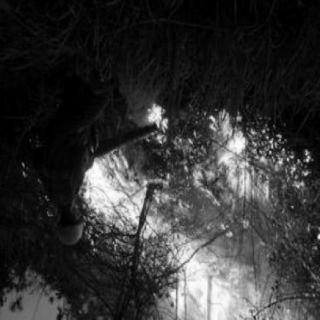Fire: (159, 243, 235, 320), (84, 161, 156, 239)
